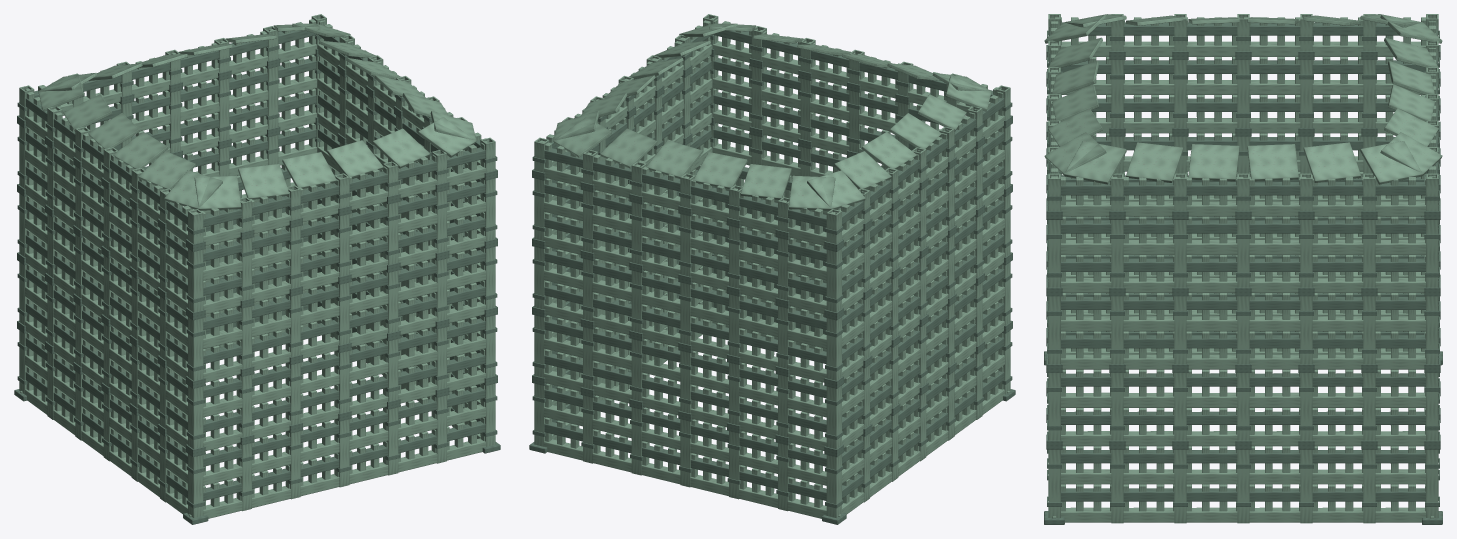
3 renders of one model, left to right at view 1: azimuth 30°, elevation 25°; view 2: azimuth 150°, elevation 25°; view 3: azimuth 270°, elevation 25°, orthographic. The views are drawn at different scales.
Visible parts, largest first — view 1: Crown alloy petal 0-1, Crown alloy petal 0-2, Crown alloy petal 0-3, Crown alloy petal 0-4, Crown alloy petal 3-4, Crown alloy petal 0-0, Crown alloy petal 3-3, Crown alloy petal 3-5, Crown alloy petal 0-5, Crown alloy petal 3-2, Crown alloy petal 3-1, Tier 0 side 0 post 0 (+33 smaller); view 2: Crown alloy petal 2-4, Crown alloy petal 2-3, Crown alloy petal 2-2, Crown alloy petal 2-1, Crown alloy petal 3-1, Crown alloy petal 2-5, Crown alloy petal 3-2, Crown alloy petal 3-0, Crown alloy petal 2-0, Crown alloy petal 3-3, Crown alloy petal 3-4, Tier 0 side 3 post 0 (+33 smaller); view 3: Crown alloy petal 1-4, Crown alloy petal 1-1, Crown alloy petal 1-2, Crown alloy petal 1-3, Crown alloy petal 1-5, Crown alloy petal 1-0, Crown alloy petal 0-5, Crown alloy petal 2-0, Crown alloy petal 2-1, Crown alloy petal 0-4, Crown alloy petal 2-2, Crown alloy petal 0-3 (+171 smaller).
Boxes of the visible parts, box(x1,y1,x2,y2) form: Crown alloy petal 0-1: box(238, 164, 289, 199); Crown alloy petal 0-2: box(282, 152, 336, 188); Crown alloy petal 0-3: box(327, 140, 383, 178); Crown alloy petal 0-4: box(372, 128, 429, 168); Crown alloy petal 3-4: box(138, 151, 195, 189); Crown alloy petal 0-0: box(194, 175, 241, 210); Crown alloy petal 3-3: box(113, 132, 168, 169); Crown alloy petal 3-5: box(164, 170, 222, 209); Crown alloy petal 0-5: box(418, 117, 476, 157); Crown alloy petal 3-2: box(88, 113, 140, 149); Crown alloy petal 3-1: box(63, 94, 112, 131); Tier 0 side 0 post 0: box(188, 454, 203, 517); Crown alloy petal 2-4: box(740, 164, 791, 199); Crown alloy petal 2-3: box(693, 152, 747, 189); Crown alloy petal 2-2: box(646, 140, 702, 178); Crown alloy petal 2-1: box(600, 128, 657, 168); Crown alloy petal 3-1: box(834, 151, 891, 189); Crown alloy petal 2-5: box(788, 175, 835, 210); Crown alloy petal 3-2: box(861, 132, 916, 168); Crown alloy petal 3-0: box(807, 170, 865, 209); Crown alloy petal 2-0: box(553, 117, 611, 157); Crown alloy petal 3-3: box(889, 113, 941, 148); Crown alloy petal 3-4: box(917, 94, 966, 131); Tier 0 side 3 post 0: box(826, 454, 841, 517); Crown alloy petal 1-4: box(1303, 142, 1360, 182); Crown alloy petal 1-1: box(1126, 142, 1183, 182); Crown alloy petal 1-2: box(1188, 144, 1239, 181); Crown alloy petal 1-3: box(1247, 144, 1298, 181); Crown alloy petal 1-5: box(1360, 141, 1422, 184); Crown alloy petal 1-0: box(1064, 141, 1126, 184); Crown alloy petal 0-5: box(1044, 132, 1106, 175); Crown alloy petal 2-0: box(1380, 132, 1442, 175); Crown alloy petal 2-1: box(1384, 108, 1438, 146); Crown alloy petal 0-4: box(1048, 108, 1102, 146); Crown alloy petal 2-2: box(1388, 84, 1434, 121); Crown alloy petal 0-3: box(1052, 84, 1098, 121).
Bounding box in the file's own units: 2.85 × 2.83 × 2.85.
2 materials, 2 textured.
